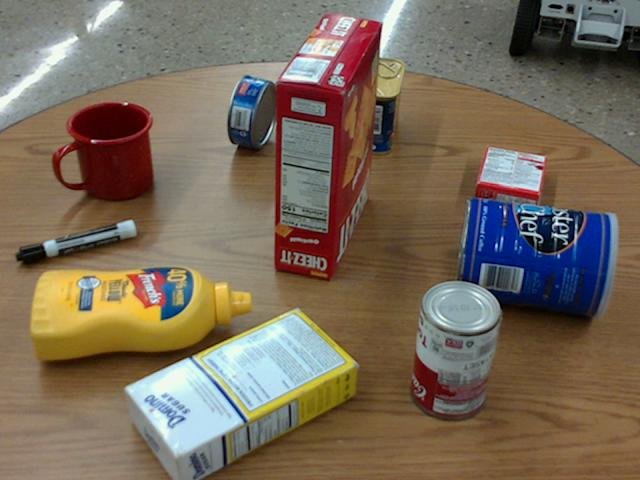cracker_box: (275, 12, 382, 277)
gelatin_box: (474, 144, 545, 211)
large_marker: (16, 218, 135, 264)
master_chef_can: (455, 194, 619, 315)
mug: (55, 102, 152, 201)
mustard_bottle: (30, 264, 251, 361)
potted_meat_can: (352, 56, 403, 154)
sugar_box: (121, 307, 356, 479)
tomato_soup_can: (412, 277, 502, 417)
tuna_fish_can: (226, 74, 277, 148)
